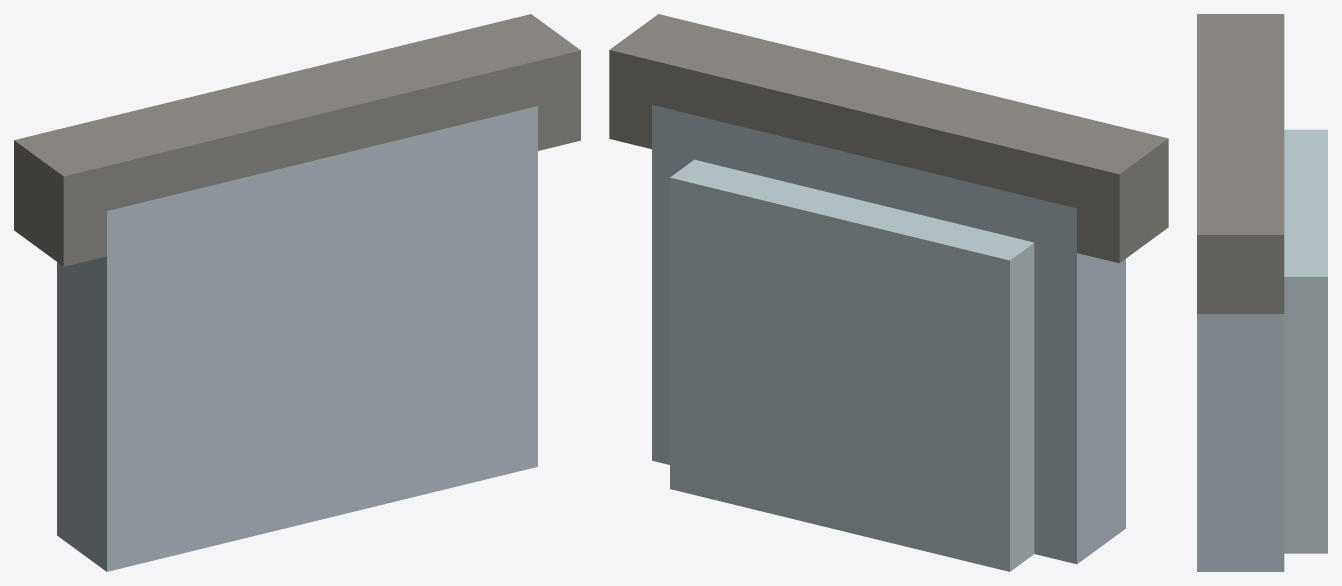
File: toalla_01.glb
3 renders of one model, left to right at view 1: azimuth 30°, elevation 25°; view 2: azimuth 150°, elevation 25°; view 3: azimuth 270°, elevation 25°, orthographic. The views are drawn at different scales.
Parts seen in each view (by area): view 1: toalla; view 2: toalla; view 3: toalla.
Part boxes in pixels (left/top/right/bottom): toalla: left=14, top=14, right=580, bottom=571; toalla: left=609, top=14, right=1168, bottom=571; toalla: left=1197, top=14, right=1327, bottom=571.
Size of the model in its own units: 0.9231 by 0.6923 by 0.2308.
